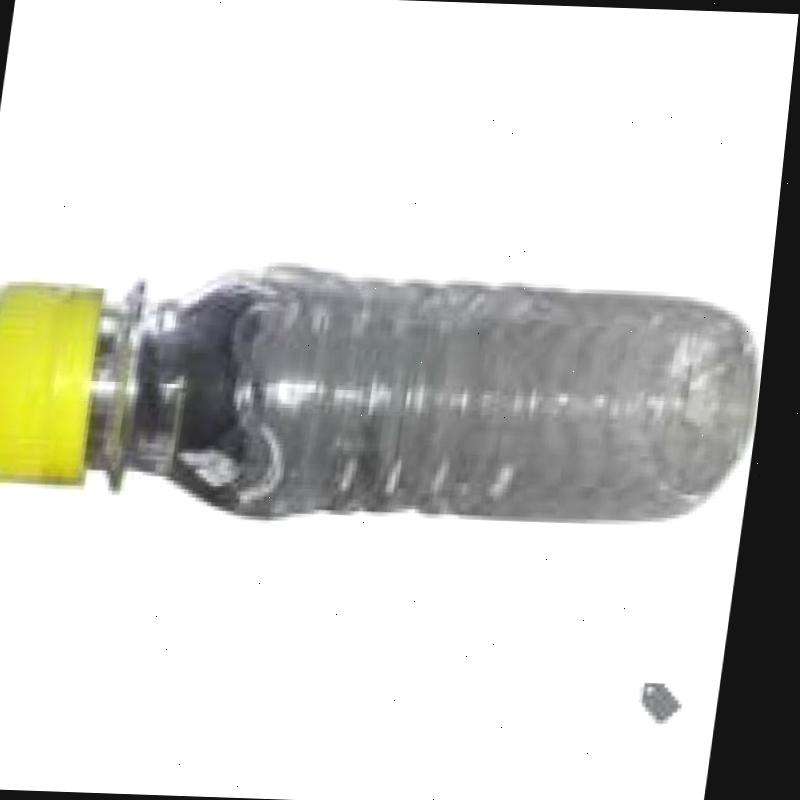botella: (0, 251, 780, 536)
